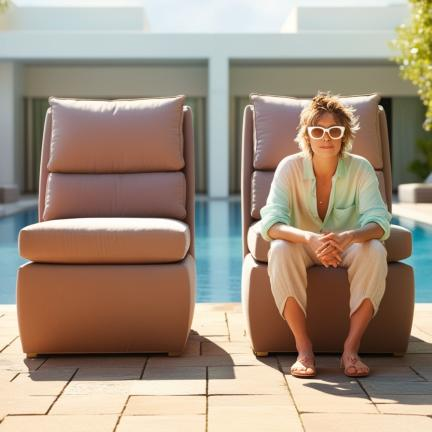empty chair: (17, 96, 196, 357)
guest on chair: (241, 93, 414, 378)
